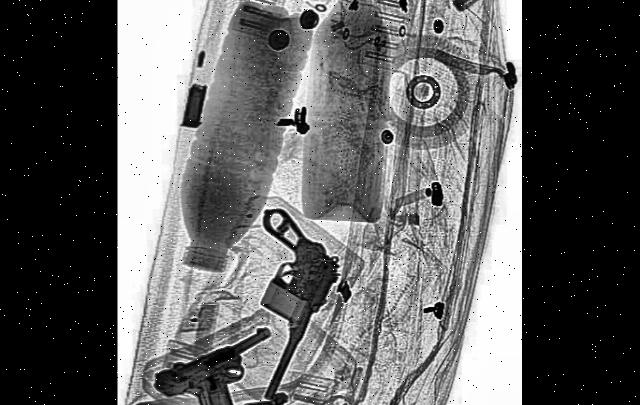Gun: (211, 174, 344, 405), (150, 321, 276, 405)
